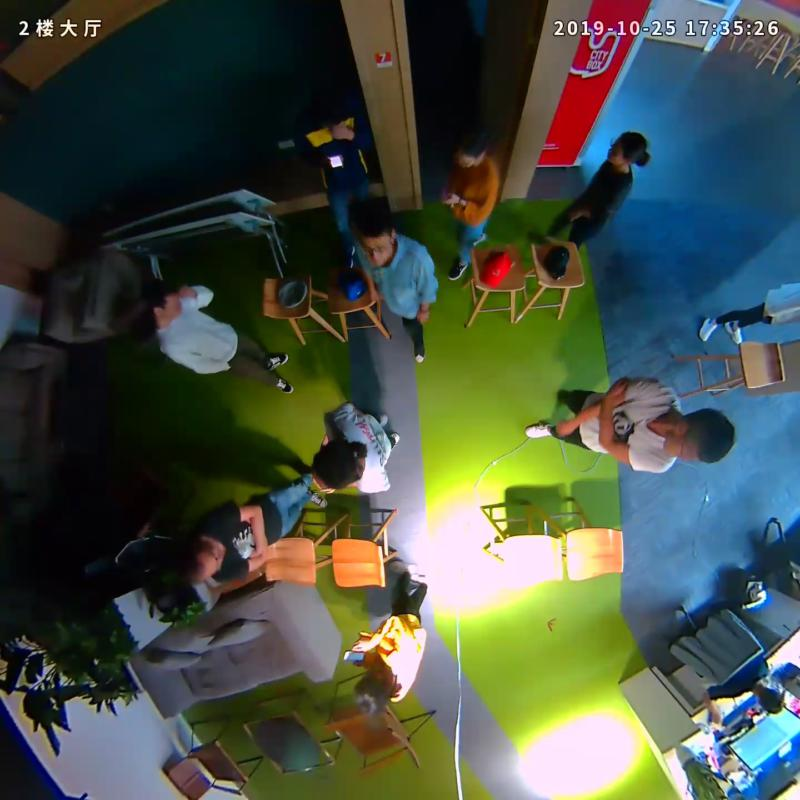head: (662, 407, 737, 463), (350, 199, 396, 267), (310, 440, 363, 494), (173, 534, 224, 584), (356, 666, 396, 717), (453, 120, 492, 169), (143, 278, 184, 322), (606, 130, 648, 168), (307, 84, 343, 120)
